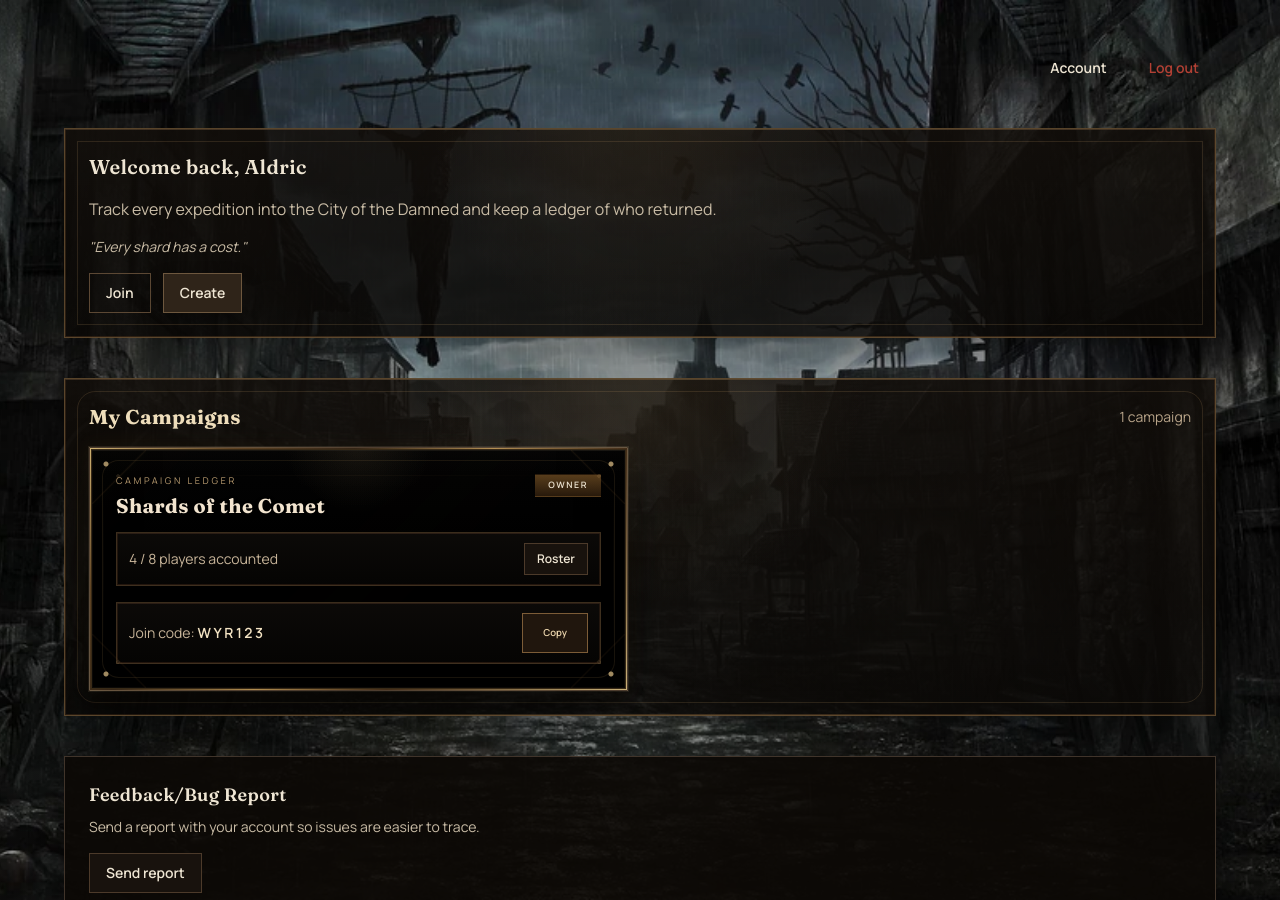
Test case: Campaigns list and the join code › joins with the code upper-cased and puts the campaign at the top of the list
Expected: the text "1 campaign" is shown, x1=1119 y1=407 x2=1191 y2=427
Step 1. Click the button "Join" → click(120, 293), box x1=89 y1=273 x2=151 y2=313
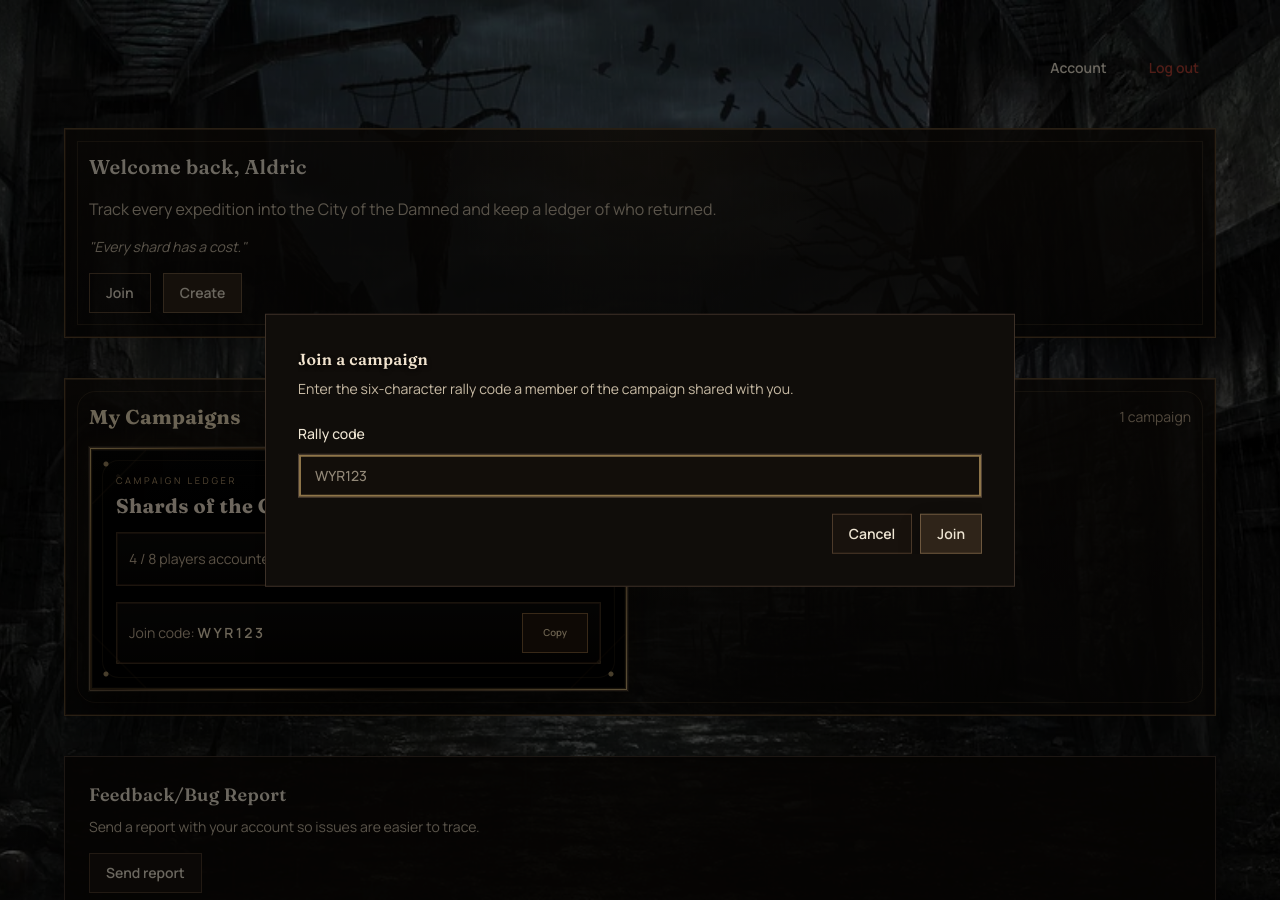
Step 2. Type "pit777" into the field labelled "Rally code" → (640, 475), box x1=298 y1=453 x2=982 y2=497
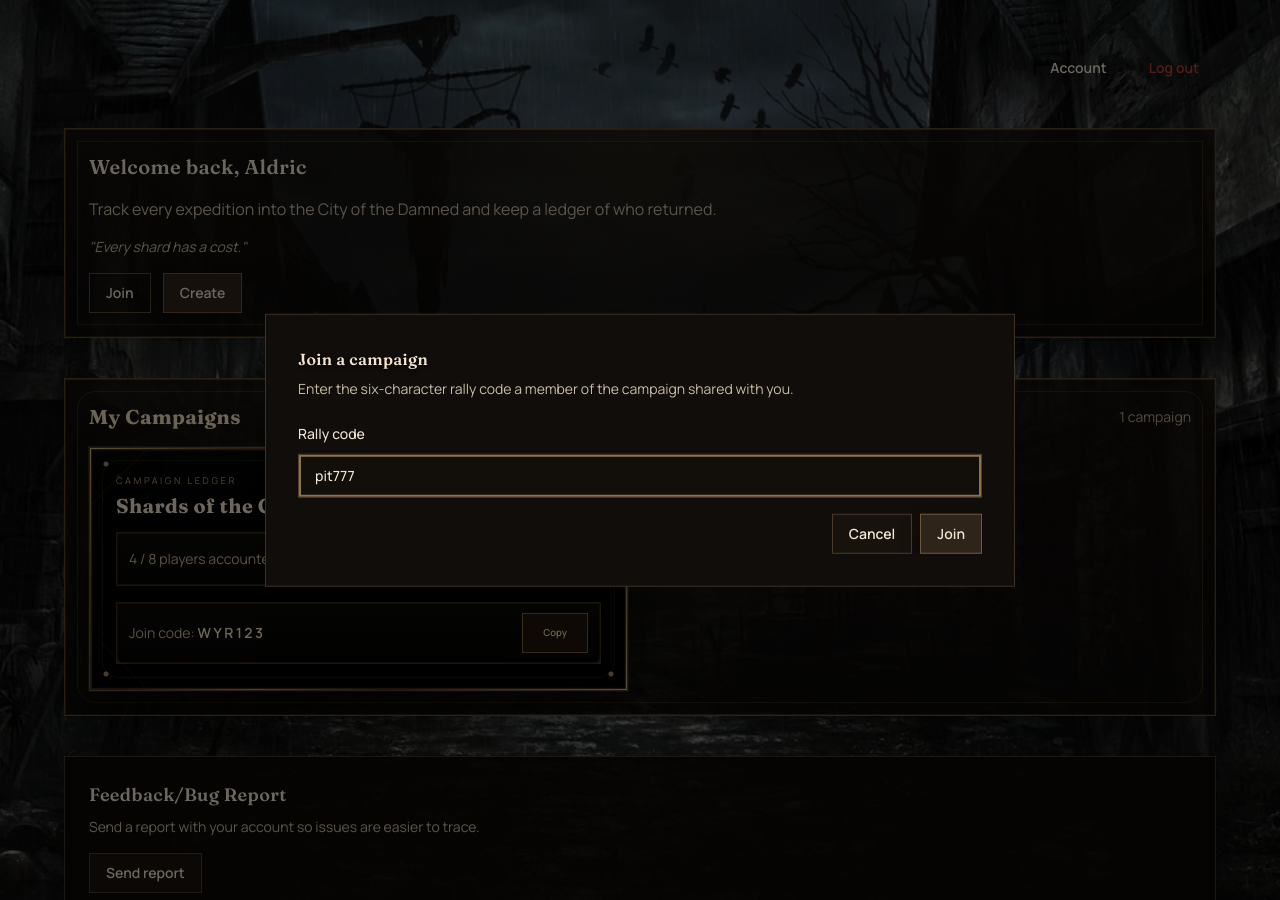
Step 3. Click the button "Join" → click(951, 533), box x1=920 y1=513 x2=982 y2=553
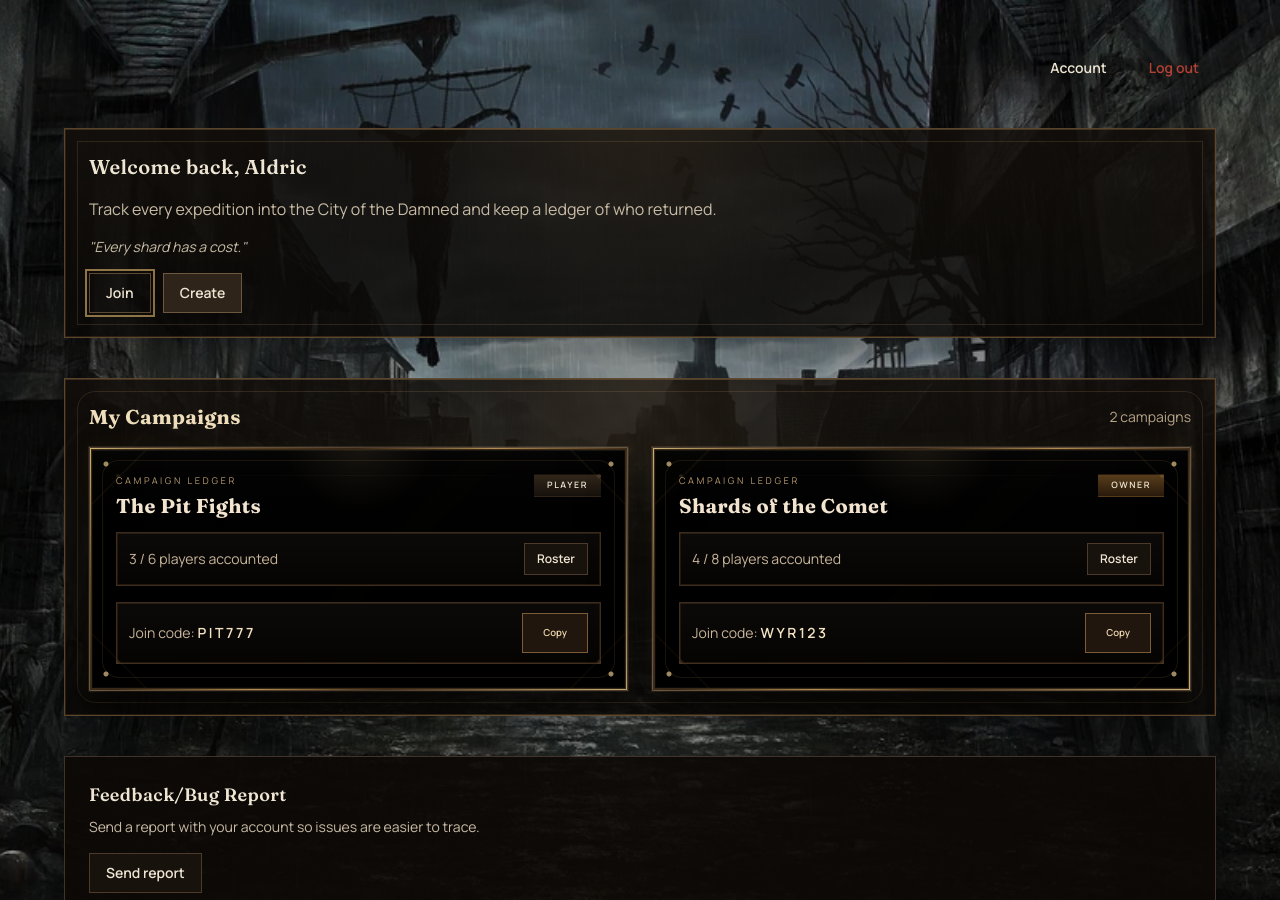
Now the dialog is gone
Now the text "2 campaigns" is shown, box x1=1110 y1=407 x2=1191 y2=427
